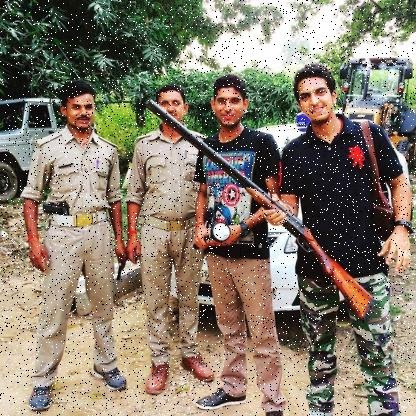rifle: (144, 98, 377, 324), (42, 200, 70, 221)
